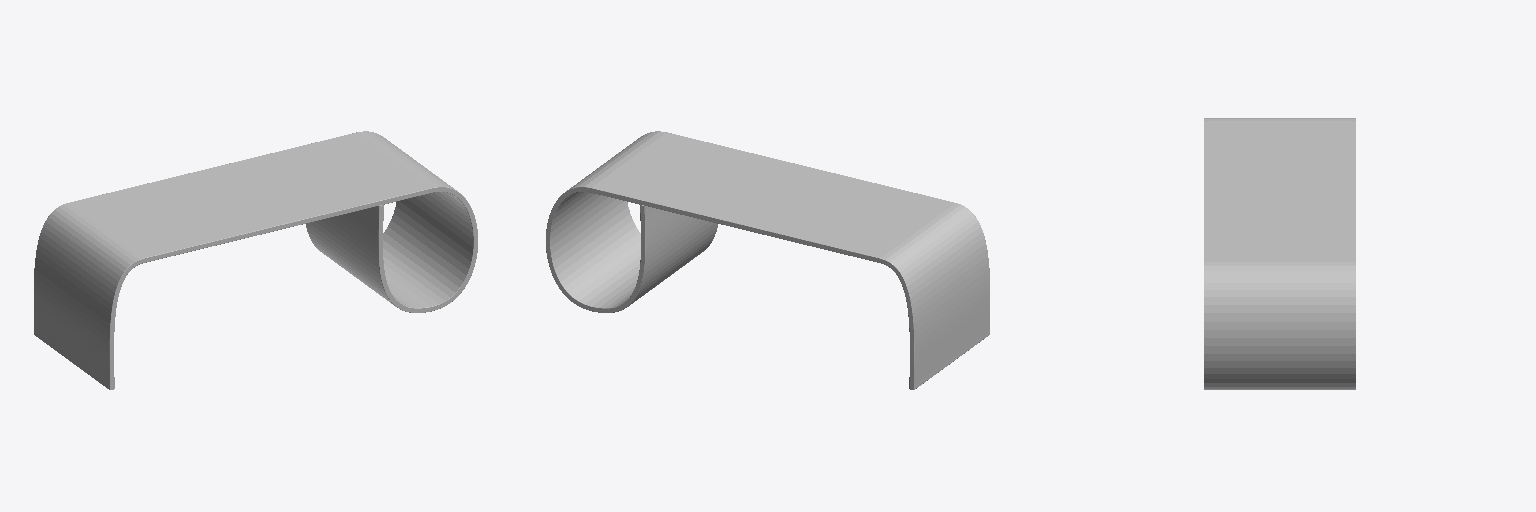
File: Table BasseTP.obj
3 views of the same model, side by side, from view 1: azimuth 30°, elevation 25°; view 2: azimuth 150°, elevation 25°; view 3: azimuth 270°, elevation 25° (orthographic).
Parts seen in each view (by area): view 1: Table_Basse_BezierCurve; view 2: Table_Basse_BezierCurve; view 3: Table_Basse_BezierCurve.
Boxes of the visible parts, box(x1,y1,x2,y2) form: Table_Basse_BezierCurve: box(34, 131, 477, 389); Table_Basse_BezierCurve: box(546, 131, 989, 389); Table_Basse_BezierCurve: box(1204, 118, 1355, 389).
Bounding box in the file's own units: 1.4 × 0.45 × 0.5.